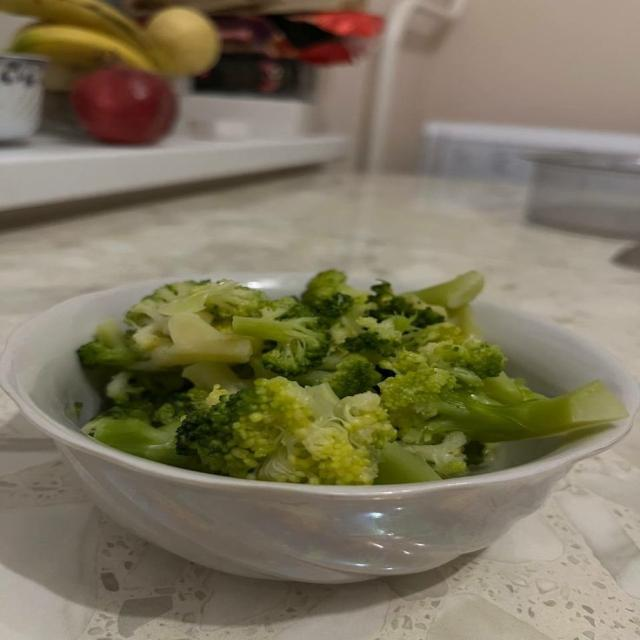broccoli: (177, 378, 396, 484), (380, 361, 626, 443), (125, 281, 252, 368), (84, 412, 201, 470), (233, 316, 329, 377), (125, 281, 201, 354), (151, 314, 252, 367), (376, 432, 467, 484), (160, 280, 266, 319), (125, 281, 206, 329), (301, 270, 367, 328), (367, 282, 445, 328), (298, 354, 381, 397), (423, 339, 504, 379), (78, 320, 139, 367), (411, 271, 484, 309), (375, 442, 440, 484), (405, 432, 467, 476), (342, 318, 401, 362), (83, 400, 154, 435), (301, 270, 367, 307), (153, 388, 211, 425), (182, 363, 248, 392), (483, 372, 543, 403), (403, 322, 467, 350), (311, 293, 353, 322), (106, 372, 145, 403)
